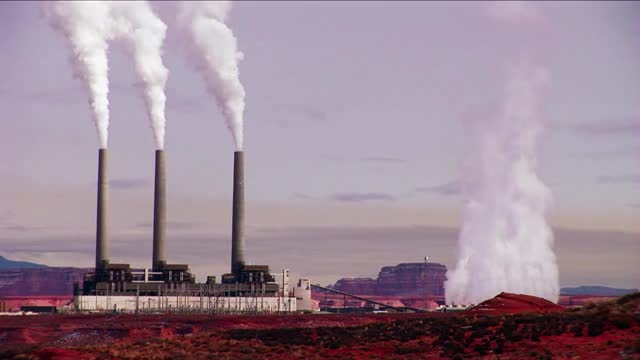dust: (35, 6, 126, 161), (169, 7, 255, 158), (104, 2, 182, 160)
